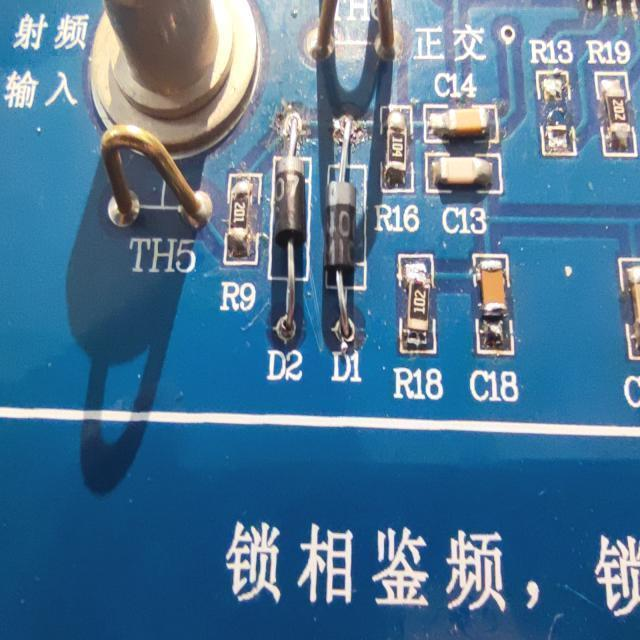Missing component: (527, 34, 580, 160)
